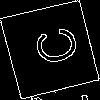C: (24, 24, 81, 70)
